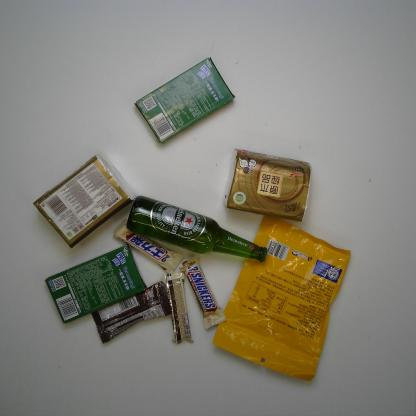Alcohol: (121, 191, 270, 263)
Chocolate: (91, 280, 173, 344), (112, 218, 185, 274), (179, 252, 227, 330), (158, 272, 194, 345)
Dessert: (133, 56, 236, 144), (44, 244, 148, 324)
Dried Fruit: (213, 206, 354, 384)
Tissue: (32, 152, 135, 250), (223, 147, 313, 222)
